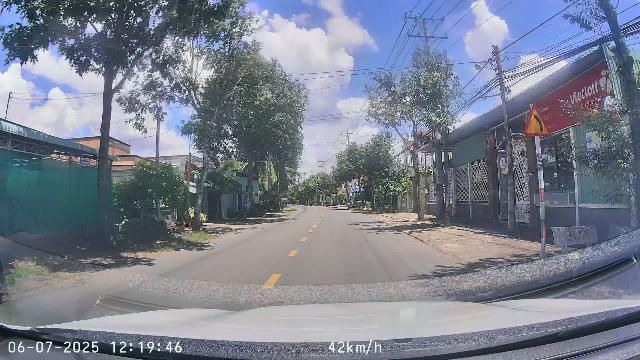201-cho-ngoat-nguy-hiem: (524, 105, 551, 137)
